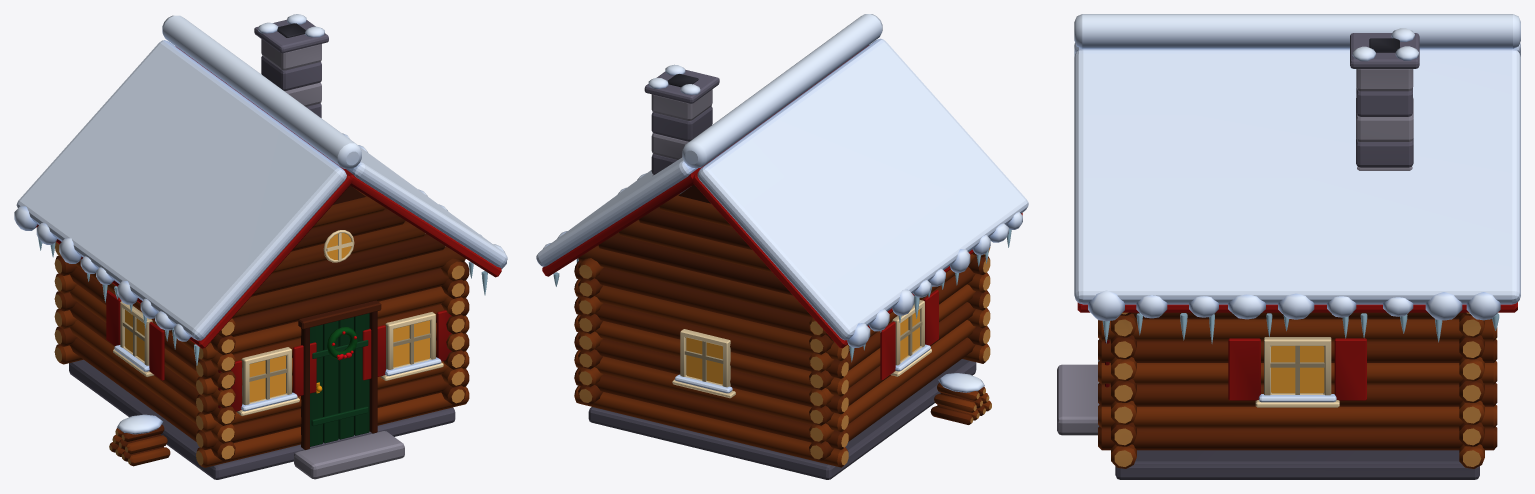
Rendered from Cabin_Snowy.fbx.
3 renders of one model, left to right at view 1: azimuth 30°, elevation 25°; view 2: azimuth 150°, elevation 25°; view 3: azimuth 270°, elevation 25°, orthographic. The views are drawn at different scales.
Visible parts, largest first — view 1: Cabin_Snowy; view 2: Cabin_Snowy; view 3: Cabin_Snowy.
Boxes of the visible parts, x1,y1,x2,y2 form: Cabin_Snowy: [14, 14, 507, 479]; Cabin_Snowy: [536, 14, 1028, 479]; Cabin_Snowy: [1057, 14, 1520, 479].
Bounding box in the file's own units: 4.67 × 4.4 × 4.53.
